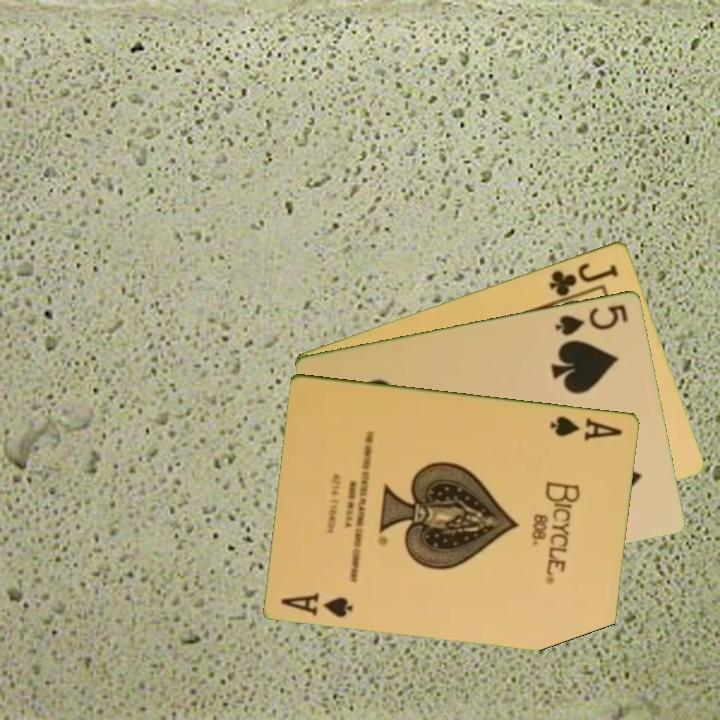5s: (551, 300, 631, 339)
As: (547, 412, 626, 444), (277, 589, 357, 620)
Jc: (546, 258, 622, 299)
